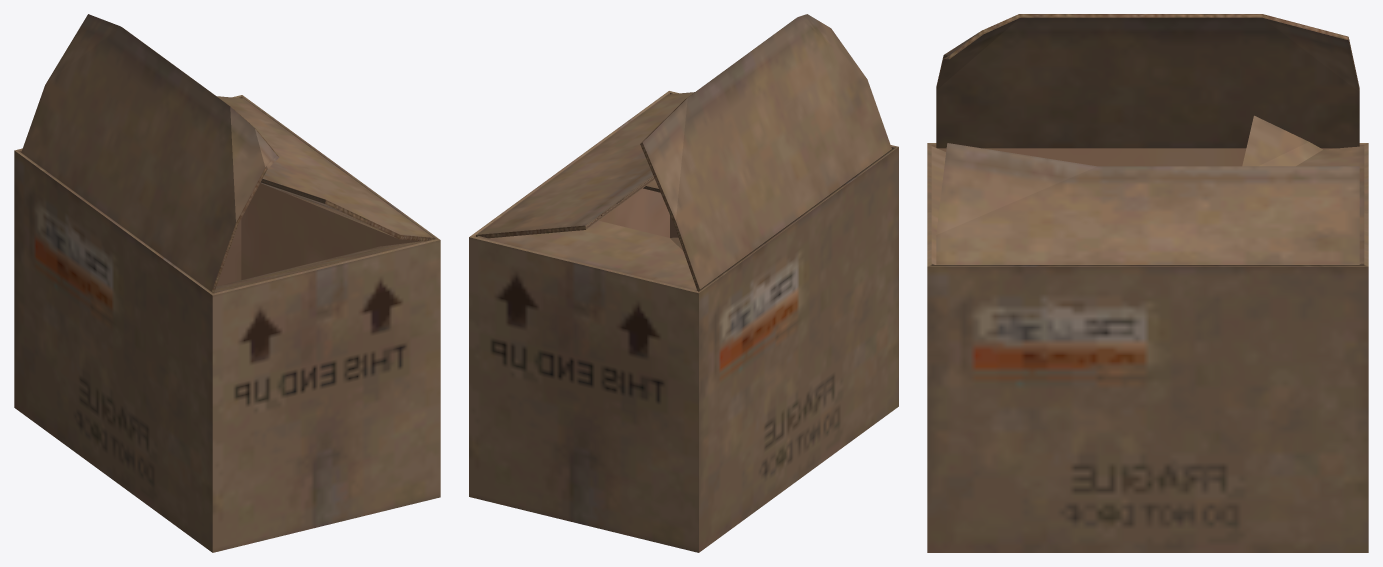
Rendered from smallcardboard.fbx.
3 views of the same model, side by side, from view 1: azimuth 30°, elevation 25°; view 2: azimuth 150°, elevation 25°; view 3: azimuth 270°, elevation 25° (orthographic). The views are drawn at different scales.
Visible parts, largest first — view 1: mesh_0; view 2: mesh_0; view 3: mesh_0.
Boxes of the visible parts, <box> form: mesh_0: <box>14,14,440,552</box>; mesh_0: <box>469,14,898,552</box>; mesh_0: <box>927,14,1368,552</box>.
Bounding box in the file's own units: 39.91 × 67.3 × 60.18.
Materials: 1 (1 with a texture image).
